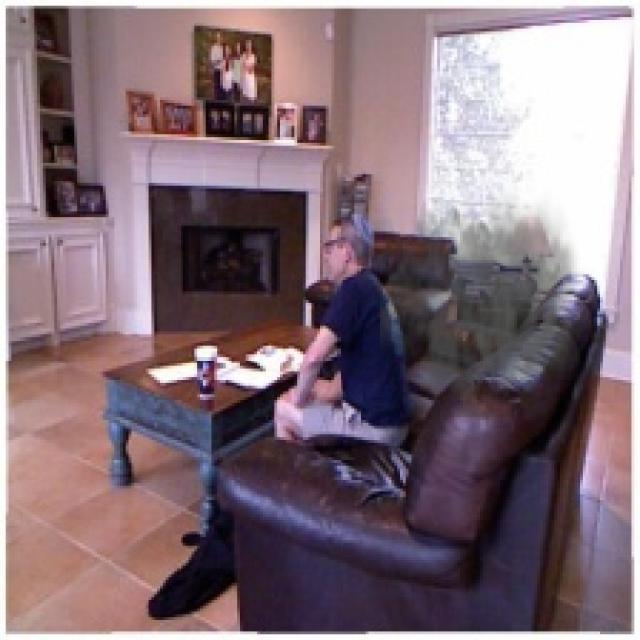Smoke: (379, 177, 592, 417)
